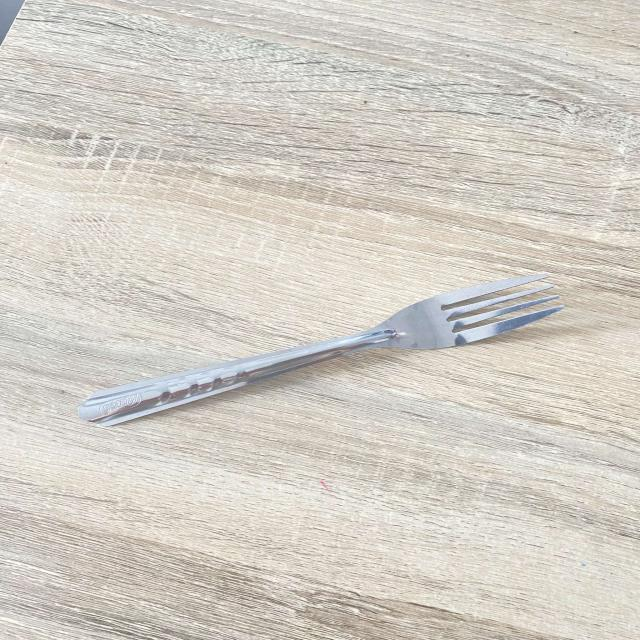fork: (76, 262, 564, 439)
